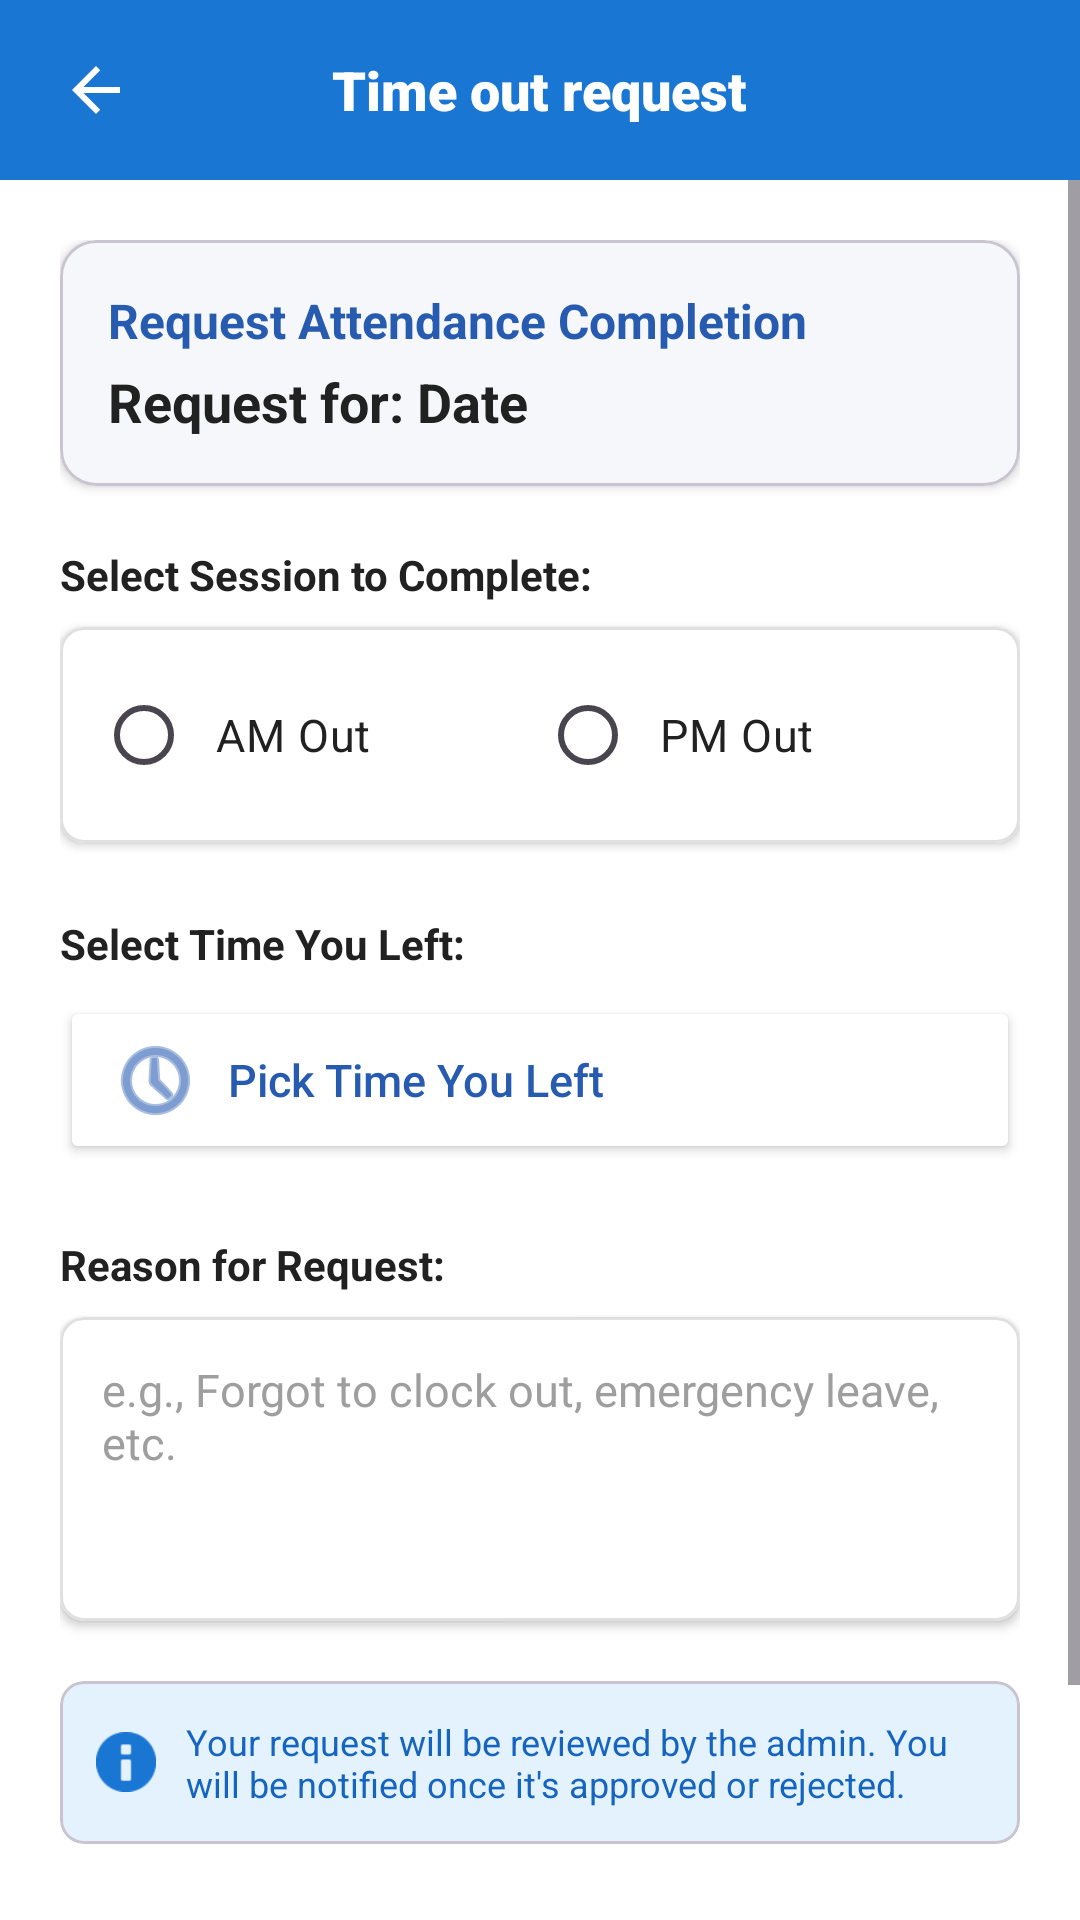

Locate icon controls on the screen. Image size 1080 × 1920, boxes as (x1, y1, x2, y2).
arrow back: (72, 66, 120, 114)
info: (96, 1732, 156, 1792)
